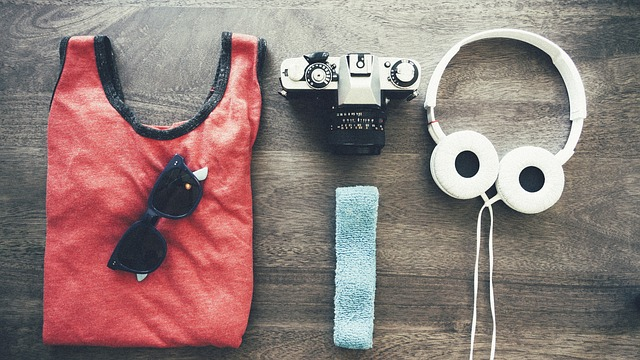headphones: (425, 29, 587, 214)
